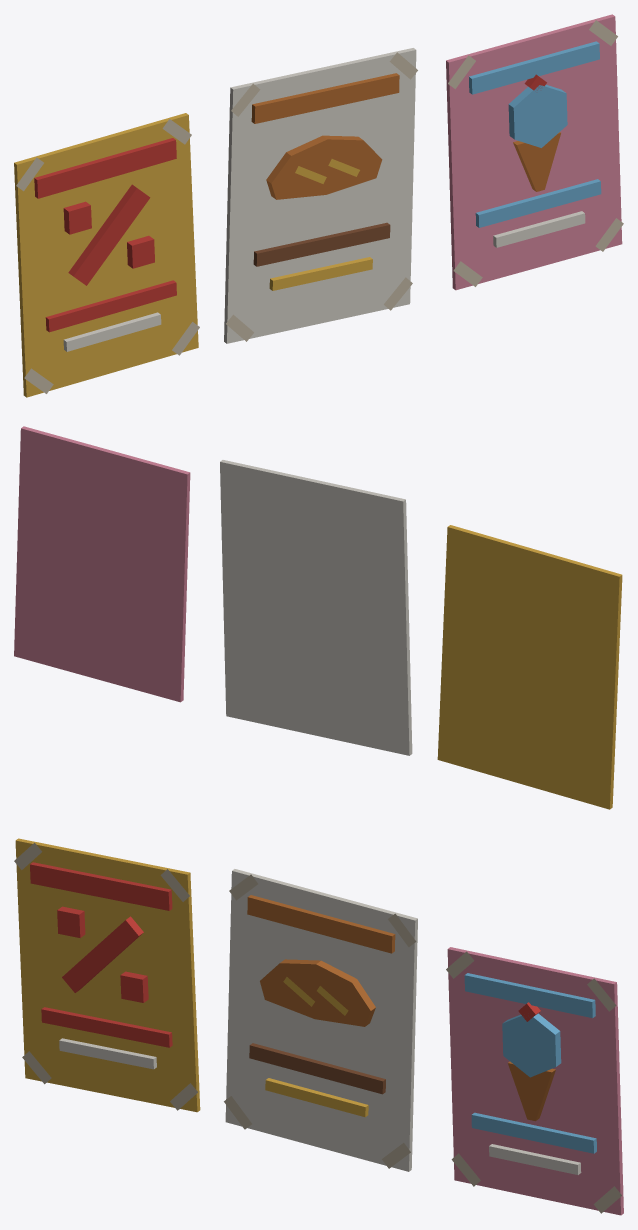
The model's file is afis_seti.glb.
3 renders of one model, top to bottom at view 1: azimuth 30°, elevation 25°; view 2: azimuth 150°, elevation 25°; view 3: azimuth 330°, elevation 25°, orthographic.
Parts seen in each view (by area): view 1: afis_seti; view 2: afis_seti; view 3: afis_seti.
Boxes of the visible parts, left/top/right/bottom form: afis_seti: left=14, top=14, right=623, bottom=397; afis_seti: left=14, top=426, right=622, bottom=809; afis_seti: left=14, top=838, right=623, bottom=1215.
Size of the model in its own units: 2.19 by 0.8979 by 0.0505.
